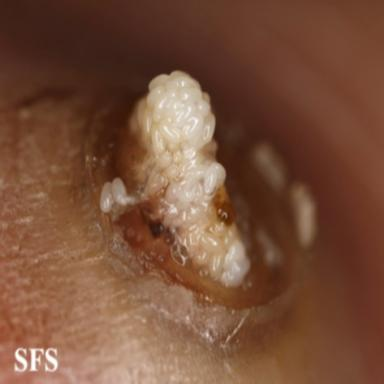Tungiasis: (87, 71, 295, 342)
